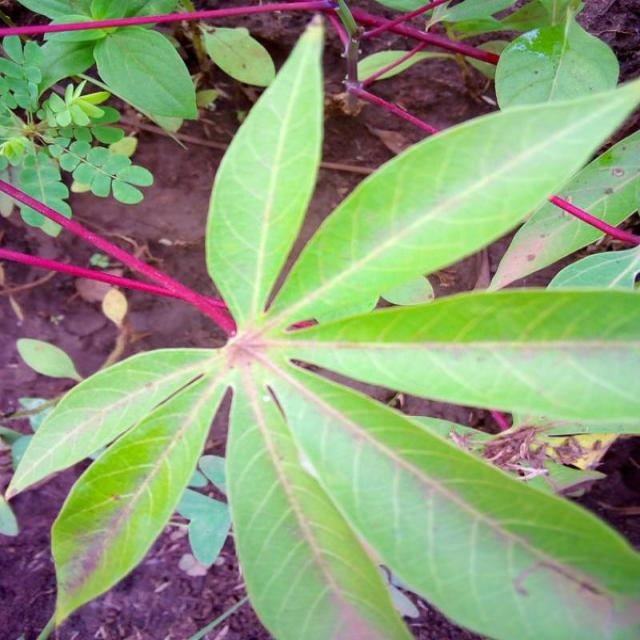cassava leaf: (5, 15, 638, 638), (203, 13, 326, 332)
